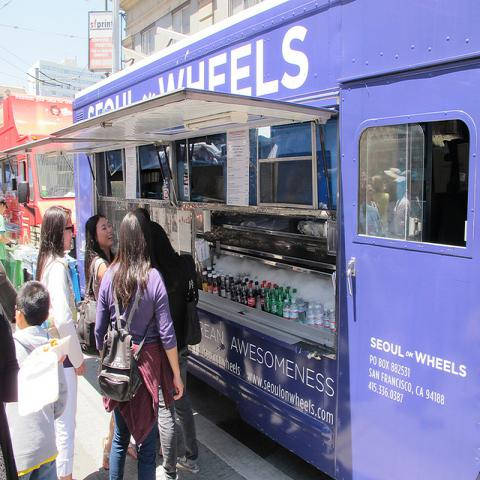truck: (12, 0, 479, 479), (2, 96, 76, 250)
